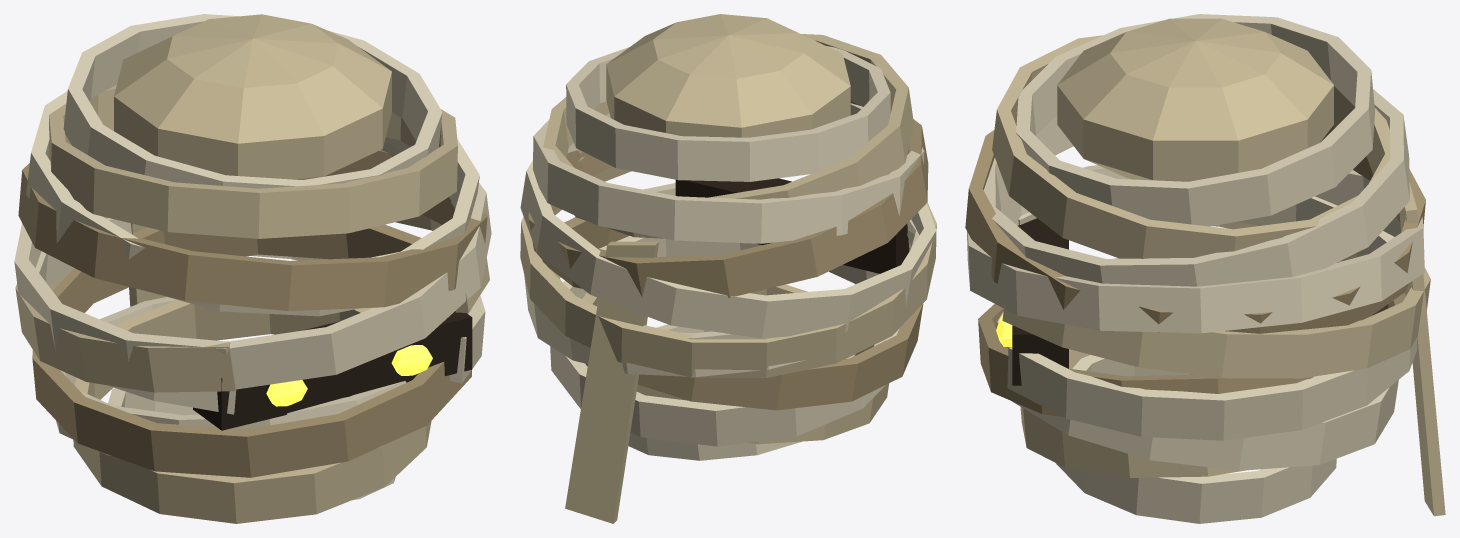
File: mummy_head.glb
The picture shows the model from 3 angles, left to right: view 1: azimuth 30°, elevation 25°; view 2: azimuth 150°, elevation 25°; view 3: azimuth 270°, elevation 25°; orthographic projection. The views are drawn at different scales.
Parts seen in each view (by area): view 1: mummy_head; view 2: mummy_head; view 3: mummy_head.
Boxes of the visible parts, x1,y1,x2,y2 form: mummy_head: [14, 14, 491, 523]; mummy_head: [520, 14, 936, 523]; mummy_head: [965, 14, 1445, 523].
Bounding box in the file's own units: 0.9858 × 1.07 × 1.02.
